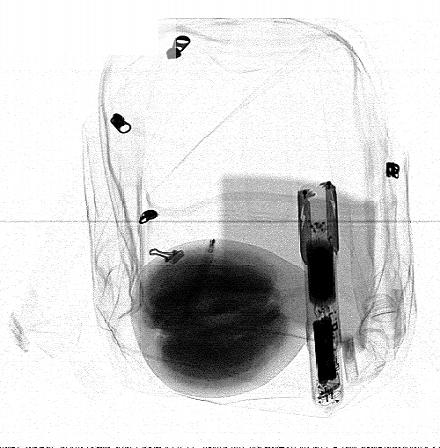Baton: (298, 181, 345, 411)
